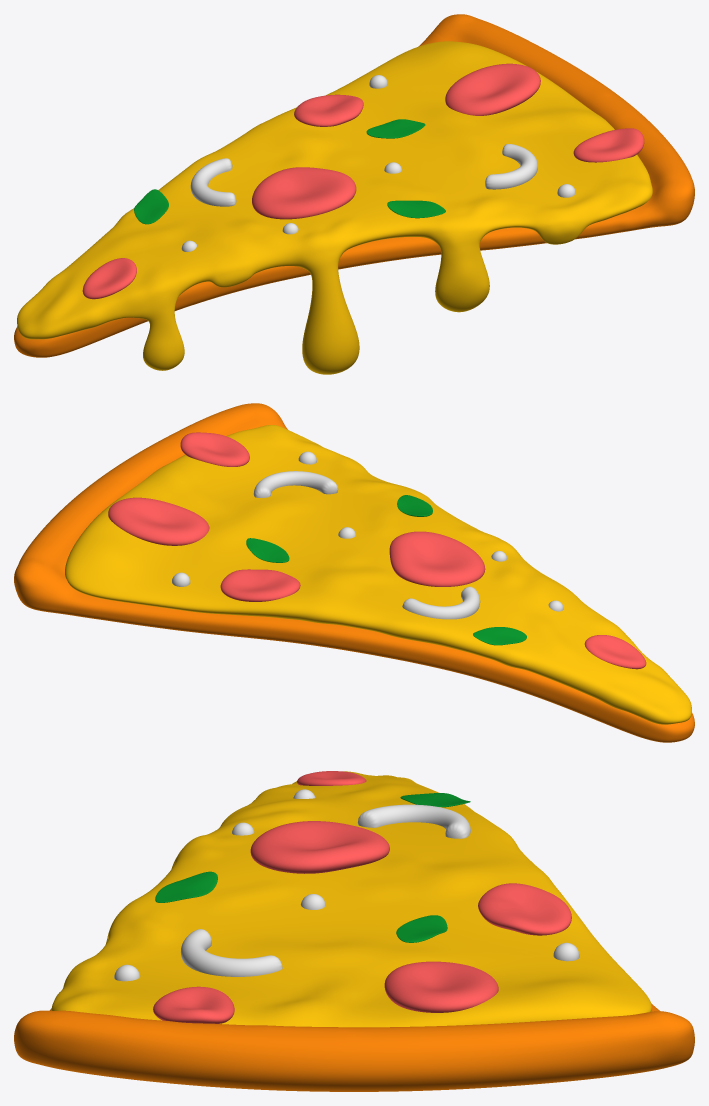
File: pizza.glb
The picture shows the model from 3 angles, top to bottom: view 1: azimuth 30°, elevation 25°; view 2: azimuth 150°, elevation 25°; view 3: azimuth 270°, elevation 25°; orthographic projection. The views are drawn at different scales.
Parts seen in each view (by area): view 1: Plane.001, Plane, Sphere, Sphere.001, Sphere.003, Sphere.002, Sphere.004, Torus.001, Torus, Plane.003, Plane.004, Plane.002; view 2: Plane.001, Plane, Sphere, Sphere.001, Sphere.002, Sphere.003, Sphere.004, Torus.001, Torus, Plane.003, Plane.002, Plane.004; view 3: Plane.001, Plane, Sphere, Sphere.001, Sphere.002, Sphere.003, Torus.001, Torus, Plane.004, Plane.002, Sphere.004, Plane.003.
Part boxes in pixels (x1=…): Plane.001: x1=17, y1=41, x2=652, y2=374; Plane: x1=14, y1=14, x2=694, y2=357; Sphere: x1=252, y1=167, x2=356, y2=219; Sphere.001: x1=445, y1=63, x2=540, y2=115; Sphere.003: x1=573, y1=128, x2=644, y2=162; Sphere.002: x1=294, y1=94, x2=363, y2=126; Sphere.004: x1=82, y1=258, x2=136, y2=299; Torus.001: x1=485, y1=144, x2=537, y2=189; Torus: x1=190, y1=158, x2=236, y2=206; Plane.003: x1=134, y1=189, x2=168, y2=224; Plane.004: x1=387, y1=200, x2=445, y2=218; Plane.002: x1=366, y1=119, x2=425, y2=138; Plane.001: x1=65, y1=425, x2=691, y2=724; Plane: x1=14, y1=403, x2=694, y2=742; Sphere: x1=389, y1=531, x2=485, y2=586; Sphere.001: x1=108, y1=497, x2=209, y2=545; Sphere.002: x1=220, y1=569, x2=300, y2=601; Sphere.003: x1=180, y1=432, x2=249, y2=466; Sphere.004: x1=584, y1=635, x2=646, y2=669; Torus.001: x1=253, y1=471, x2=338, y2=497; Torus: x1=402, y1=586, x2=480, y2=619; Plane.003: x1=473, y1=627, x2=526, y2=645; Plane.002: x1=246, y1=538, x2=289, y2=562; Plane.004: x1=397, y1=495, x2=432, y2=516; Plane.001: x1=51, y1=771, x2=651, y2=1027; Plane: x1=14, y1=1003, x2=694, y2=1091; Sphere: x1=250, y1=821, x2=389, y2=873; Sphere.001: x1=384, y1=961, x2=498, y2=1012; Sphere.002: x1=478, y1=883, x2=571, y2=935; Sphere.003: x1=153, y1=986, x2=234, y2=1023; Torus.001: x1=180, y1=929, x2=282, y2=976; Torus: x1=357, y1=804, x2=470, y2=838; Plane.004: x1=155, y1=871, x2=217, y2=902; Plane.002: x1=396, y1=915, x2=447, y2=942; Sphere.004: x1=297, y1=771, x2=366, y2=785; Plane.003: x1=400, y1=793, x2=470, y2=807.
Bounding box in the file's own units: 7.37 × 1.88 × 5.17.
